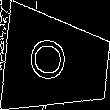O_E: (33, 38, 79, 88)
